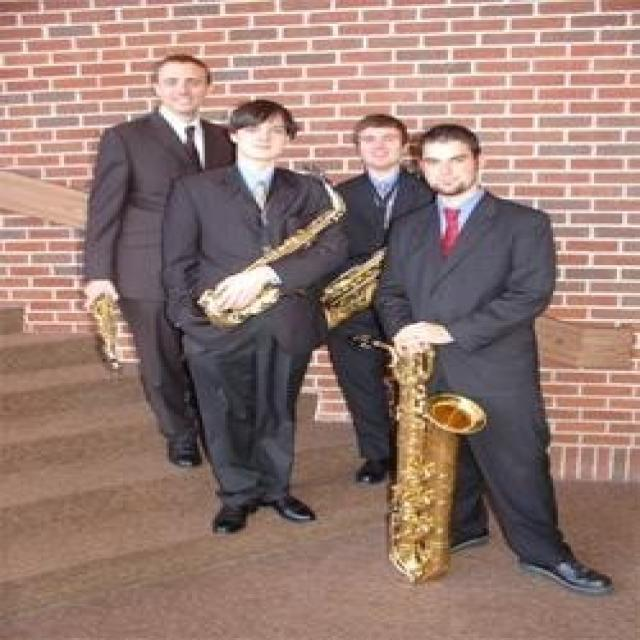saxophone: (340, 330, 496, 584), (201, 175, 353, 322)
